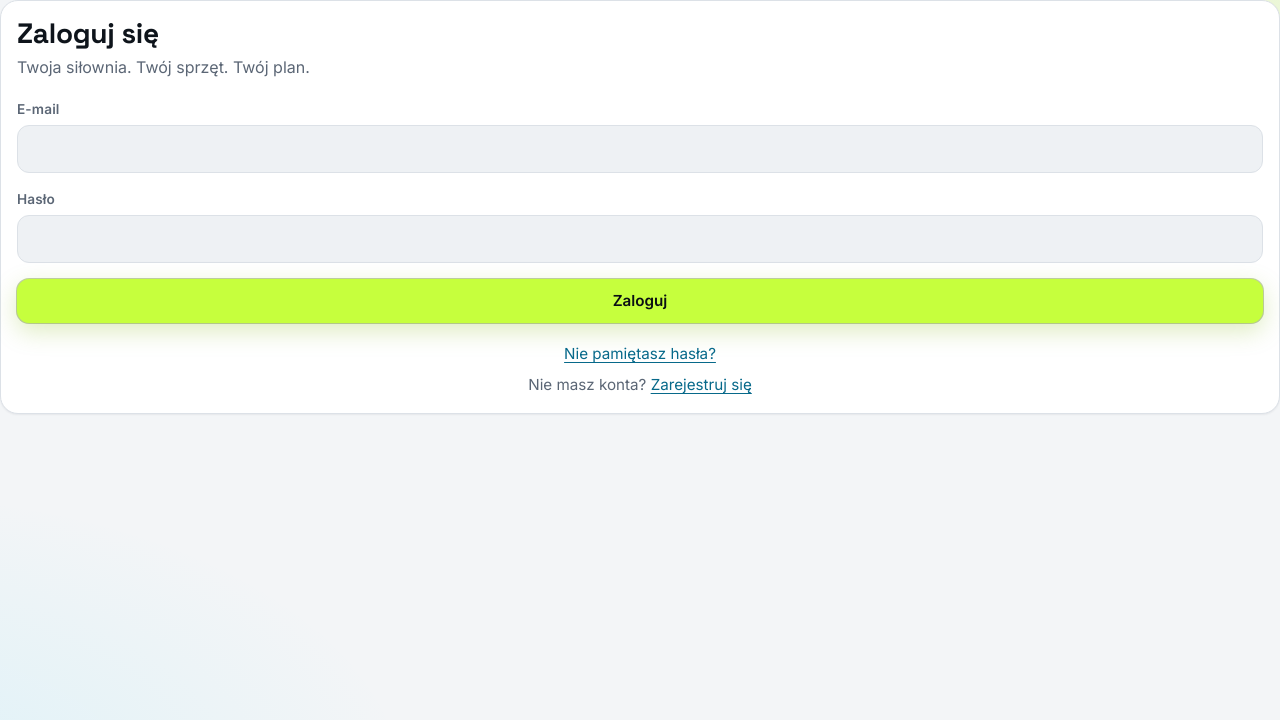
Test: LoginPage › shows translated server error on invalid credentials
The width and height of the screenshot is (1280, 720).
Type "anna@example.com" into the field labelled "E-mail" at (640, 149), box [17,125,1263,173]
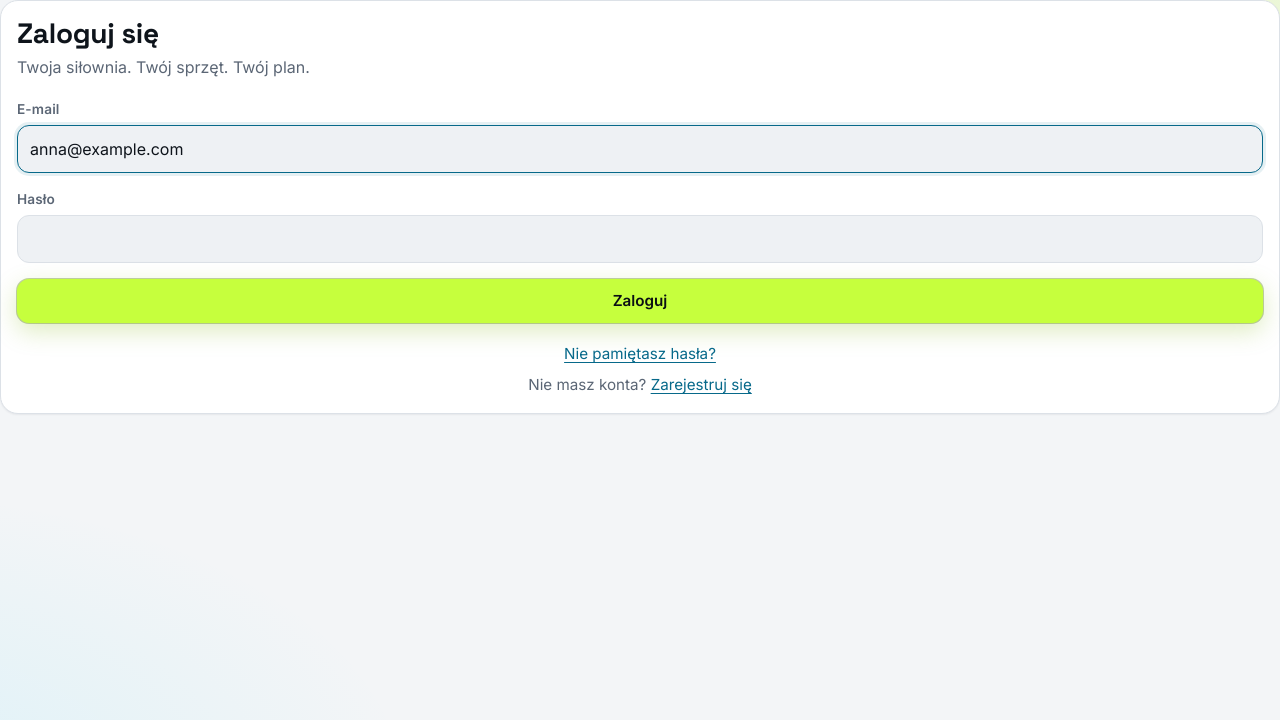
Type "WrongPass1" into the password field labelled "Hasło" at (640, 239), box [17,215,1263,263]
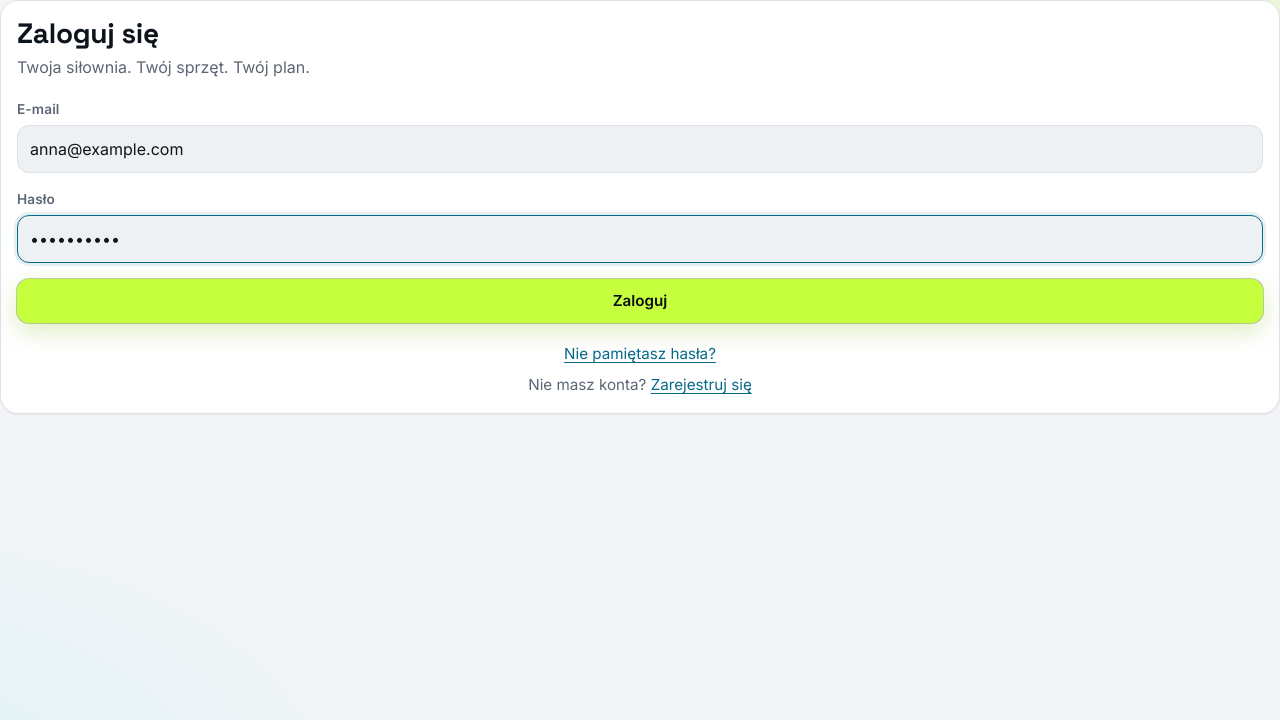
Click the button "Zaloguj" at (640, 301), box [17,279,1263,323]
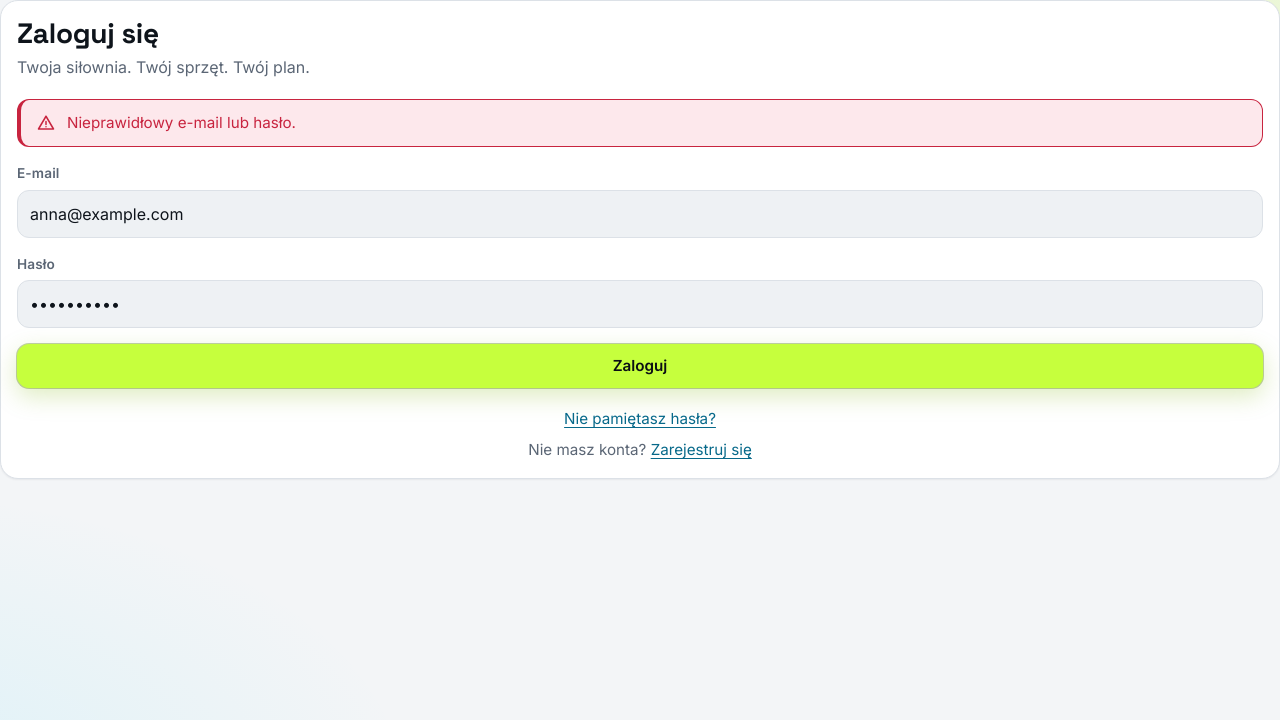
expect the text "Nieprawidłowy e-mail lub hasło." is shown: met, box [67,113,296,132]
